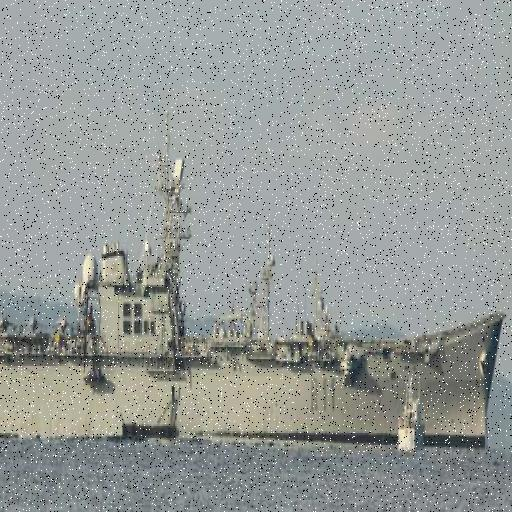Portanaves: (1, 100, 508, 458)
